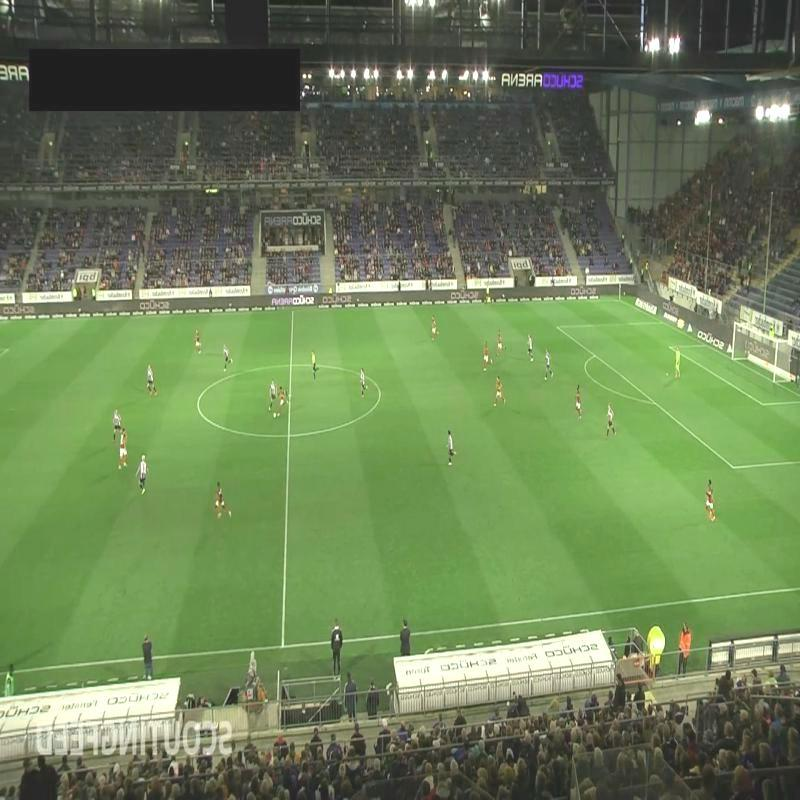1: (612, 291, 626, 305)
10: (588, 349, 602, 363)
11: (648, 397, 662, 411)
12: (727, 460, 741, 474)
13: (286, 303, 299, 317)
14: (284, 358, 297, 372)
15: (282, 429, 295, 443)
16: (274, 636, 290, 654)
2: (656, 314, 670, 328)
3: (700, 336, 714, 350)
7: (664, 339, 678, 353)
8: (756, 398, 770, 412)
9: (1, 342, 16, 354), (552, 322, 564, 332)
c: (374, 384, 388, 402), (192, 398, 206, 412)
